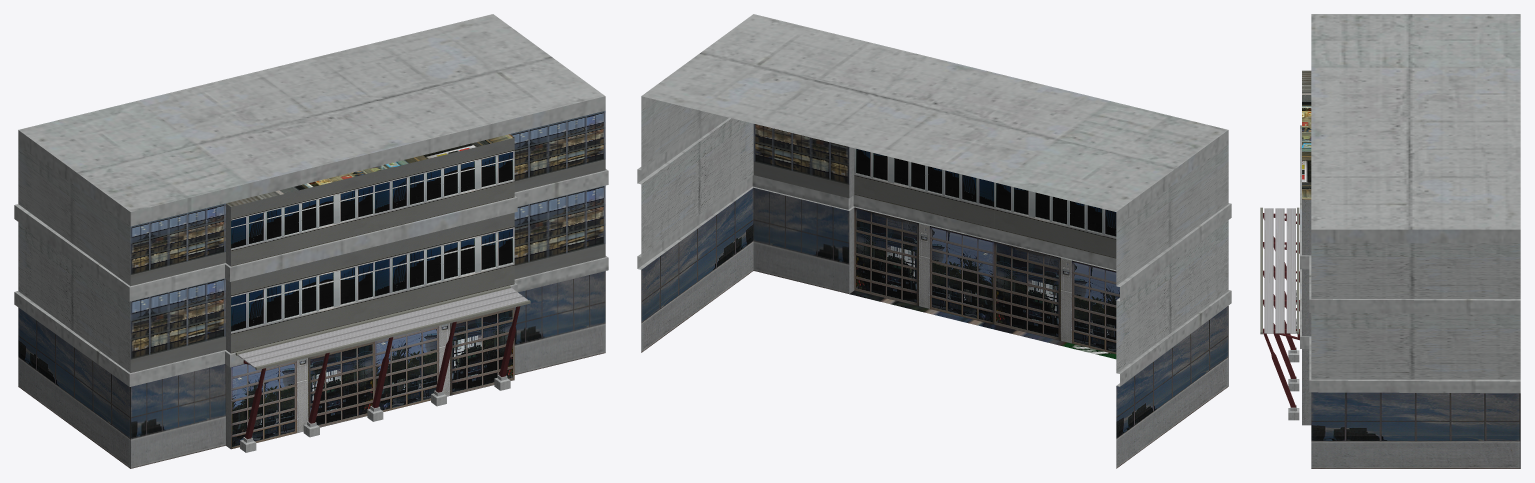
File: Citybuilding07.fbx
The picture shows the model from 3 angles, left to right: view 1: azimuth 30°, elevation 25°; view 2: azimuth 150°, elevation 25°; view 3: azimuth 270°, elevation 25°; orthographic projection. The views are drawn at different scales.
Visible parts, largest first — view 1: Citybuilding07; view 2: Citybuilding07; view 3: Citybuilding07.
Part boxes in pixels (<box>): Citybuilding07: <box>14,14,608,468</box>; Citybuilding07: <box>637,14,1231,468</box>; Citybuilding07: <box>1260,14,1520,468</box>.
Bounding box in the file's own units: 3969 × 2018 × 1991.
